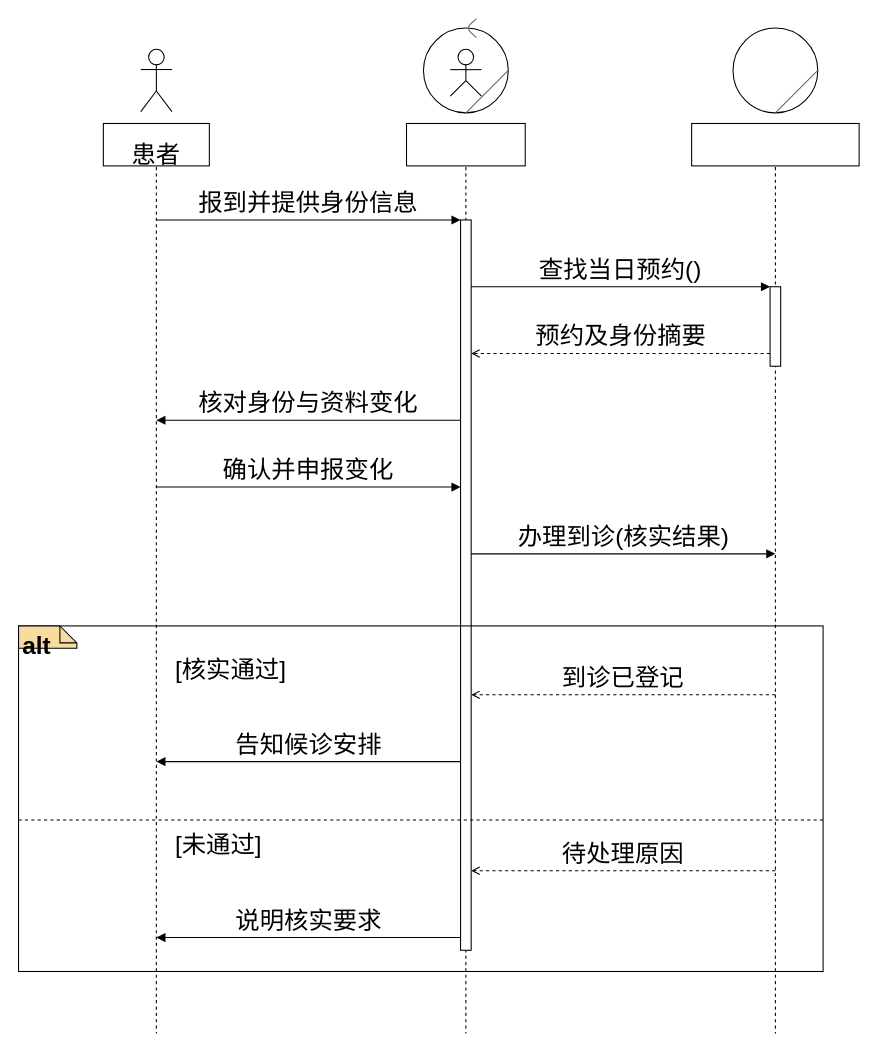
Image size: 878x1054. Some labels were removed from this diagram. The shapes that lost their labels are listed below. From the top down, each one's box as (x1, y1, x2, y2) in pixels, then its label:
(405, 122, 525, 166): 前台接待
(691, 122, 859, 166): 诊疗管理系统
